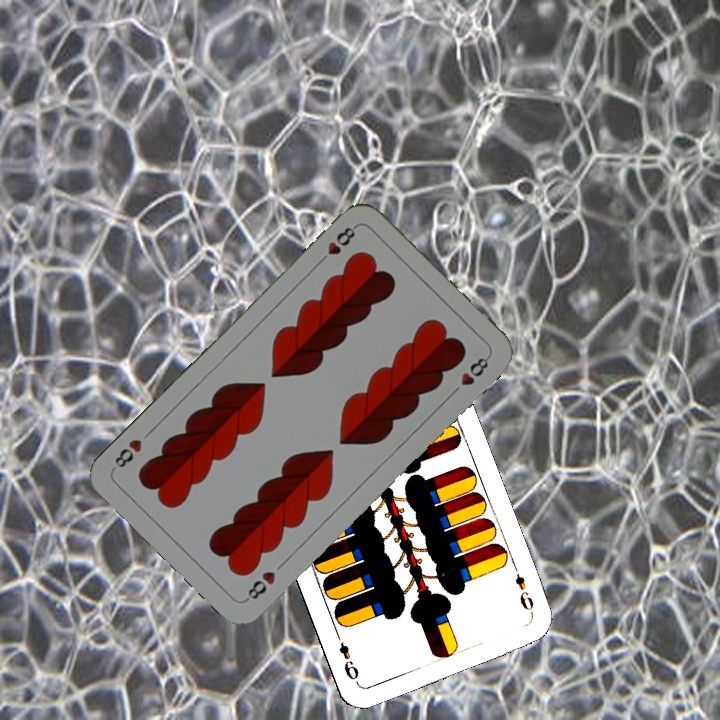E9: (509, 560, 537, 617)
H8: (314, 221, 360, 267), (241, 567, 278, 604)
